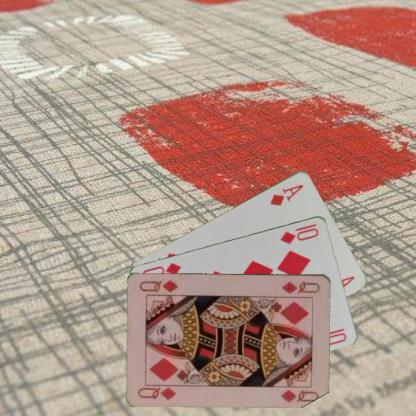10d: (277, 221, 320, 245)
Ad: (268, 181, 304, 207)
Qd: (136, 381, 180, 401), (280, 278, 321, 295)
